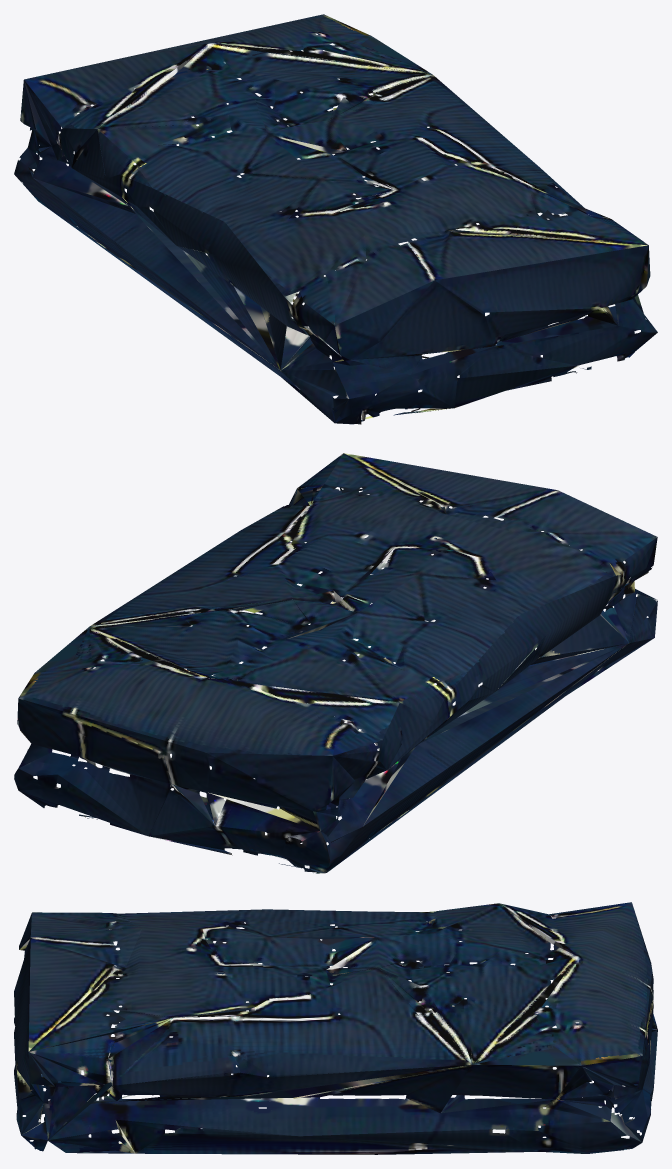
File: SoftBlanket.glb
The picture shows the model from 3 angles, top to bottom: view 1: azimuth 30°, elevation 25°; view 2: azimuth 150°, elevation 25°; view 3: azimuth 270°, elevation 25°; orthographic projection. The views are drawn at different scales.
Parts seen in each view (by area): view 1: temp_mesh.ply; view 2: temp_mesh.ply; view 3: temp_mesh.ply.
Part boxes in pixels (box(x1,y1,x2,y2)): temp_mesh.ply: box(14, 14, 657, 424); temp_mesh.ply: box(14, 453, 657, 873); temp_mesh.ply: box(14, 902, 657, 1154).
Bounding box in the file's own units: 0.2334 × 0.0952 × 0.4.
Materials: 1 (1 with a texture image).
